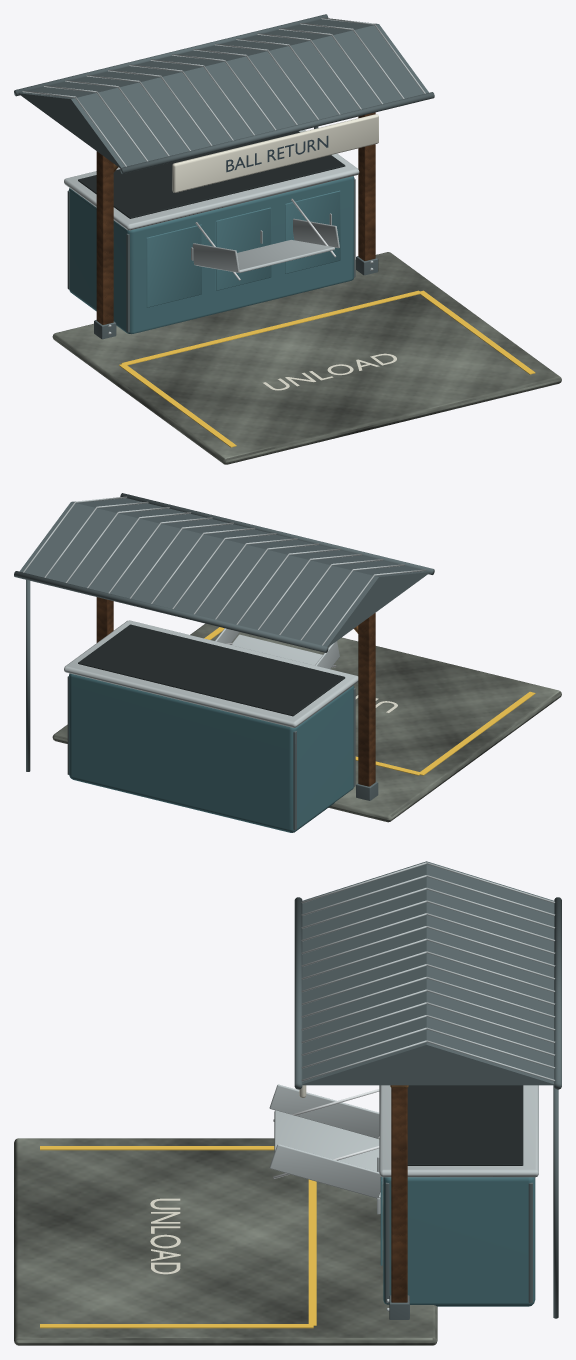
Rendered from ball-depot.glb.
3 renders of one model, top to bottom at view 1: azimuth 30°, elevation 25°; view 2: azimuth 150°, elevation 25°; view 3: azimuth 270°, elevation 25°, orthographic. The views are drawn at different scales.
Parts seen in each view (by area): view 1: UnloadPad, PostBracket, StorageBody, BracketBolt, Sign, BinTop, CanopyPost, PadStripe, SignText; view 2: PostBracket, StorageBody, UnloadPad, BinTop, BracketBolt, CanopyPost, PadStripe; view 3: UnloadPad, PostBracket, BracketBolt, StorageBody, BinTop, PadStripe, CanopyPost, Sign.
Boxes of the visible parts, x1,y1,x2,y2 form: UnloadPad: [52, 252, 561, 464]; PostBracket: [14, 14, 434, 339]; StorageBody: [69, 176, 354, 333]; BracketBolt: [22, 17, 425, 334]; Sign: [172, 114, 396, 390]; BinTop: [78, 131, 345, 218]; CanopyPost: [96, 112, 375, 324]; PadStripe: [119, 290, 535, 447]; SignText: [226, 135, 328, 172]; PostBracket: [14, 493, 434, 830]; StorageBody: [69, 673, 354, 832]; UnloadPad: [52, 623, 561, 822]; BinTop: [78, 624, 345, 716]; BracketBolt: [23, 496, 425, 727]; CanopyPost: [96, 597, 375, 786]; PadStripe: [204, 627, 535, 775]; UnloadPad: [14, 1138, 437, 1345]; PostBracket: [294, 861, 561, 1319]; BracketBolt: [269, 862, 555, 1311]; StorageBody: [380, 1177, 535, 1306]; BinTop: [407, 1085, 523, 1165]; PadStripe: [40, 1146, 316, 1328]; CanopyPost: [391, 1088, 407, 1302]; Sign: [150, 1085, 306, 1274].
Size of the model in its own units: 4.4 by 3 by 5.05.
11 materials, 3 textured.
